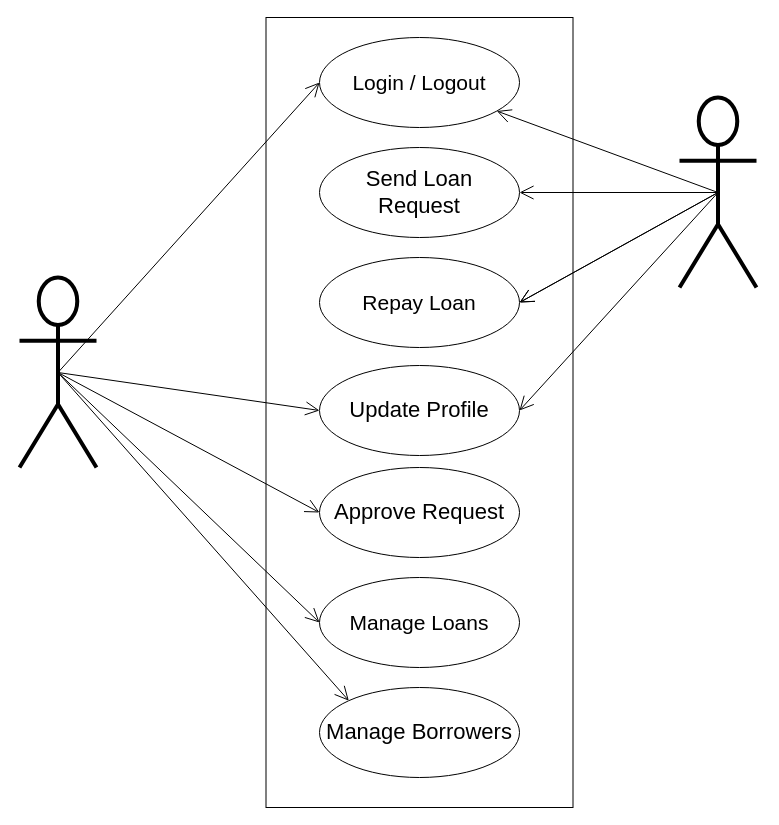
The diagram is 779 pixels wide and 825 high, and some of its shapes have lost their labels. The centre of each missing label's shape, as x and y in pixels:
"Admin" goes at point (57, 372).
"Borrower" goes at point (717, 192).
